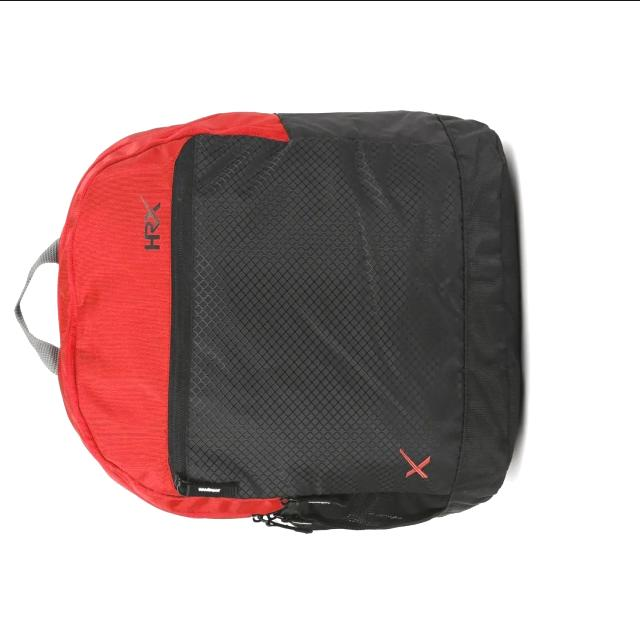backpack: (15, 110, 524, 534)
